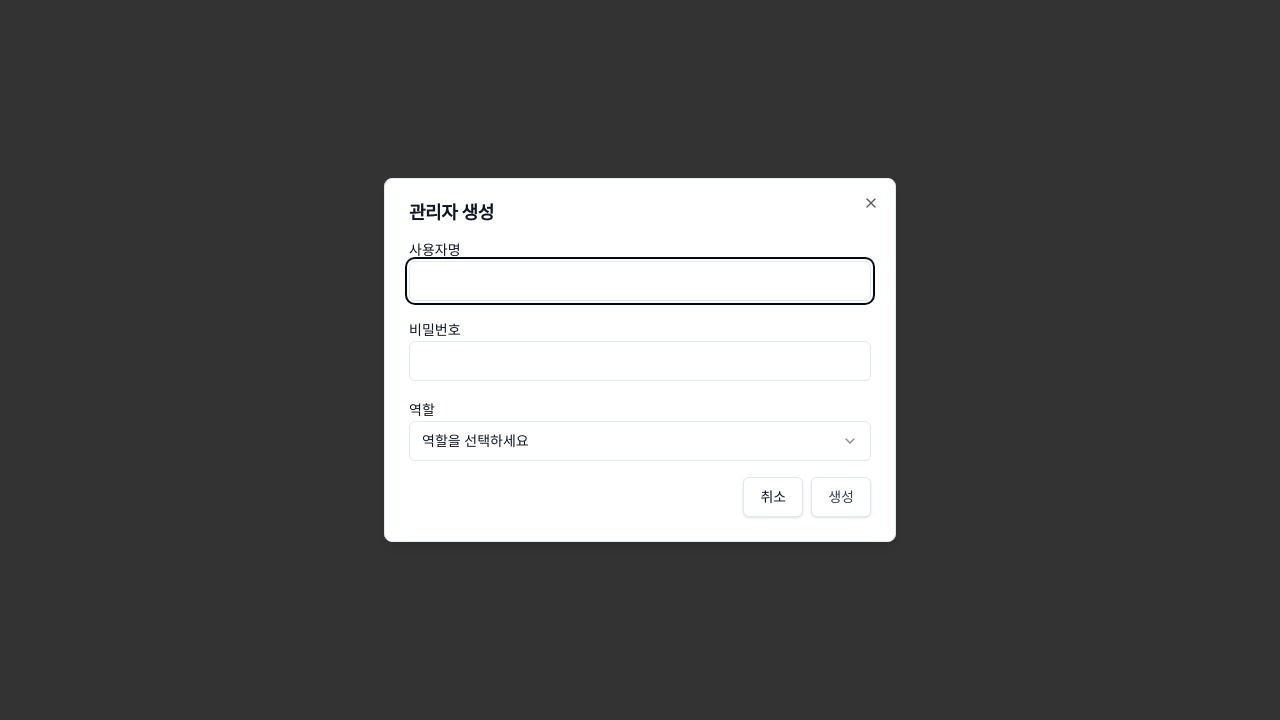
CreateAdminDialog › REQ-020: username 빈 값으로 제출 시 에러를 표시한다
What coordinates should you click on to do the following:
click the button "생성"
I would click on:
 (841, 497)
Its box is [811,477,871,517].
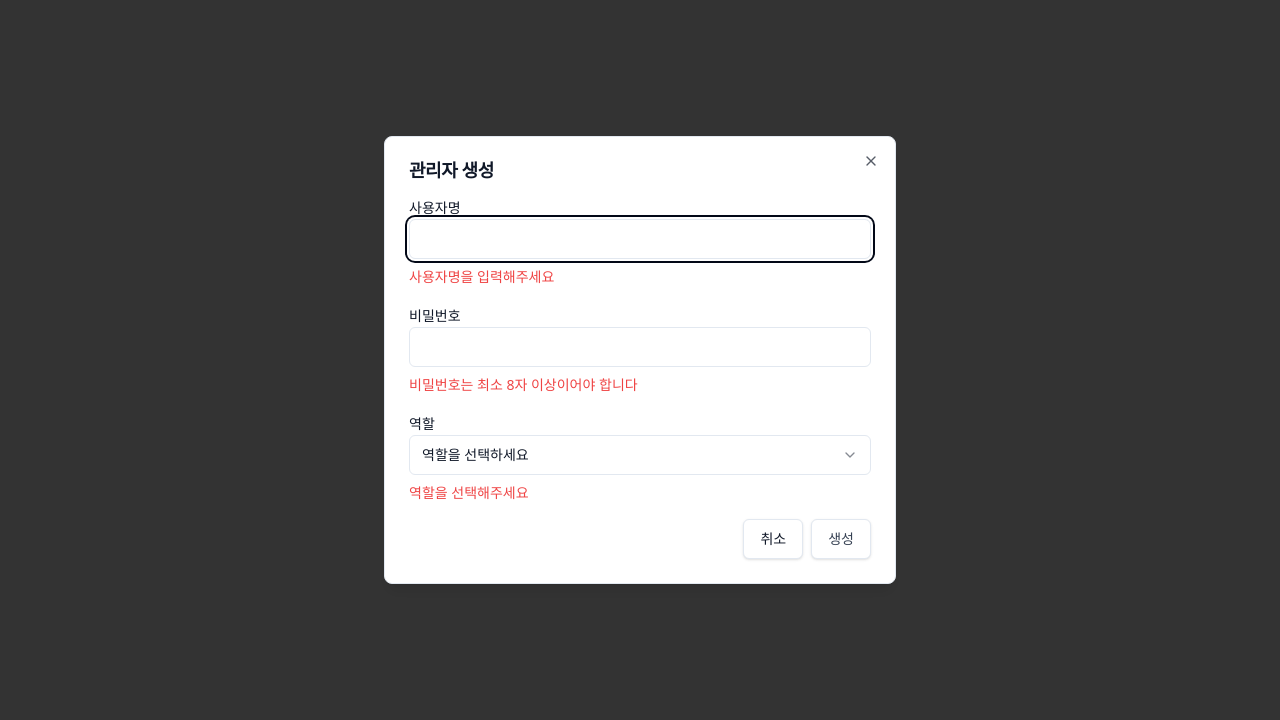
Now the text "사용자명을 입력해주세요" is shown, box [409,267,554,286]
